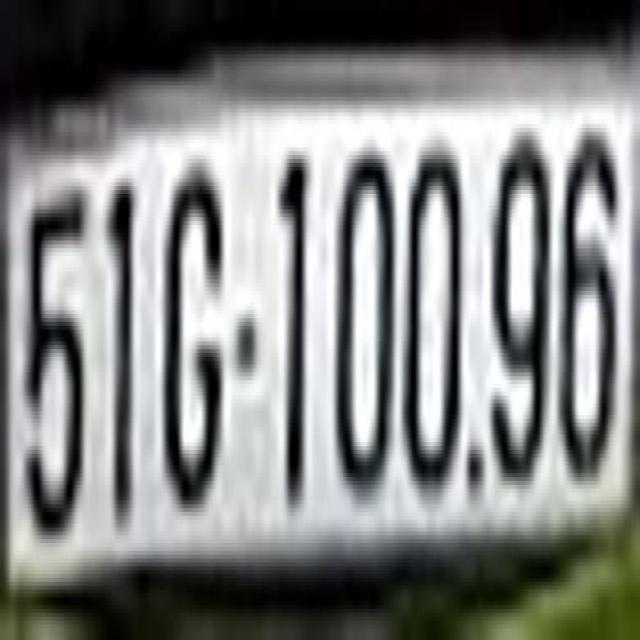0: (333, 128, 392, 493), (404, 136, 460, 500)
1: (273, 132, 306, 527), (102, 182, 134, 520)
5: (23, 183, 86, 532)
6: (560, 128, 616, 485)
9: (486, 128, 544, 485)
G: (160, 148, 224, 500)
